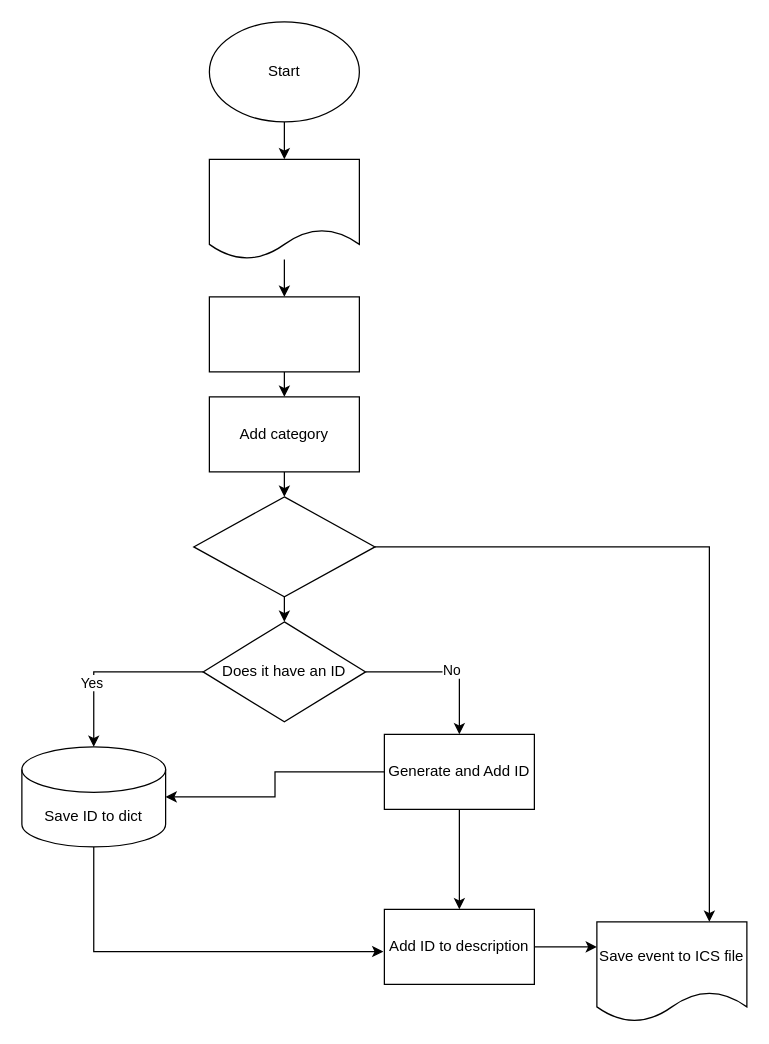
This 769x1044 diagram has some shape labels left out. Here are the shapes that lost their labels. From the top down, the centre of each, then its label:
At (283,208): "Load ICAL files".
At (283,334): "Load single event".
At (283,546): "Should the event be editable".
